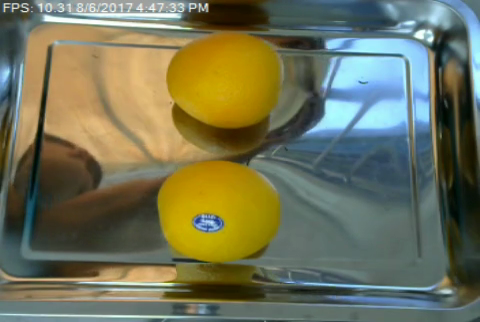Orange: (157, 160, 280, 262), (165, 31, 285, 126)
